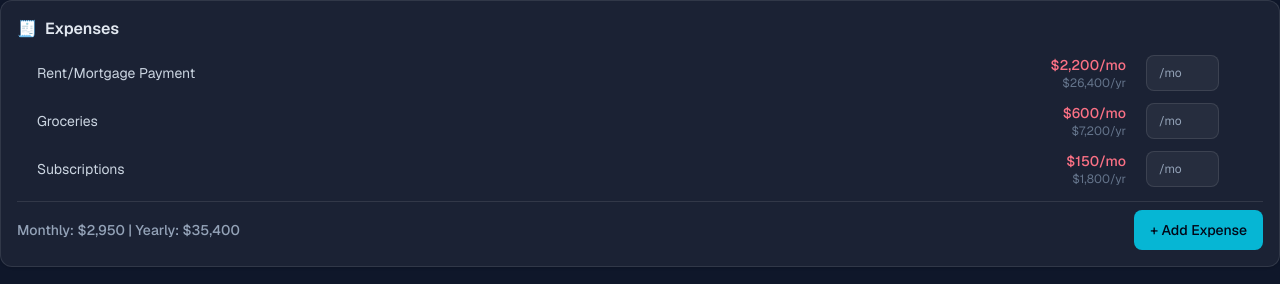
ExpenseEntry component › shows click-to-edit input when amount is clicked
The width and height of the screenshot is (1280, 284).
What coordinates should you click on to do the following:
click the button with aria-label "Edit amount for Groceries"
I would click on:
 (1078, 121)
Its box is [1022,99,1134,143].
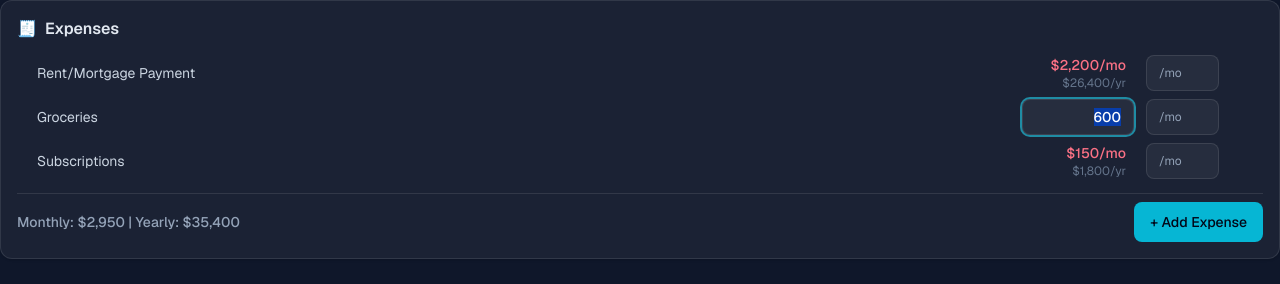
Now the field named "Edit amount for Groceries" is shown, box [1022,99,1134,135]
